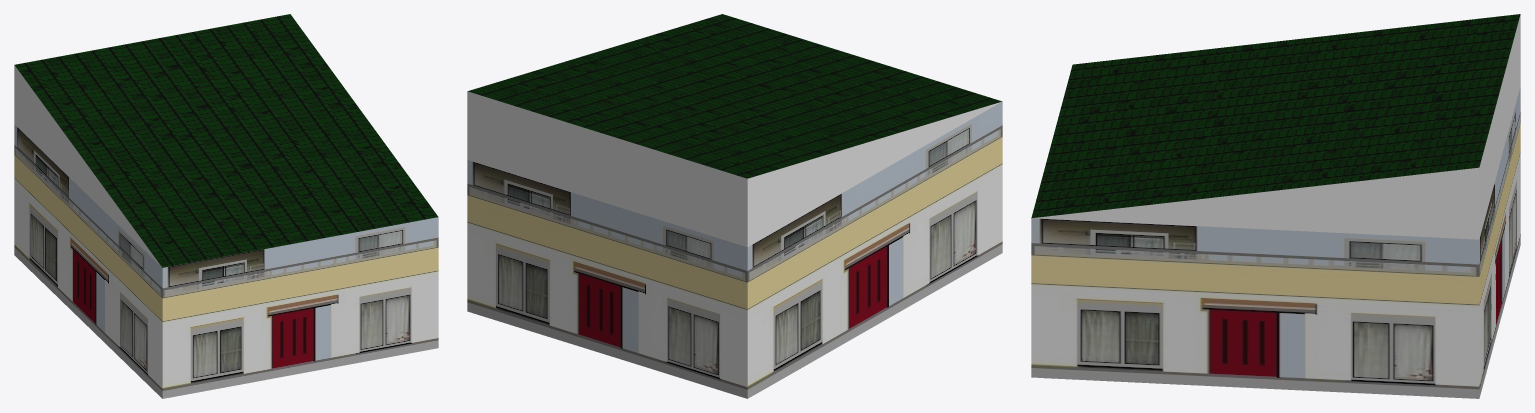
3 renders of one model, left to right at view 1: azimuth 30°, elevation 25°; view 2: azimuth 150°, elevation 25°; view 3: azimuth 270°, elevation 25°, orthographic. The views are drawn at different scales.
Parts seen in each view (by area): view 1: CityEngineMaterial_13_m, CityEngineMaterial_15_m, CityEngineMaterial_3_m; view 2: CityEngineMaterial_15_m, CityEngineMaterial_13_m, CityEngineMaterial_3_m; view 3: CityEngineMaterial_15_m, CityEngineMaterial_13_m, CityEngineMaterial_3_m.
Boxes of the visible parts, box(x1,y1,x2,y2) form: CityEngineMaterial_13_m: box(14, 14, 438, 267); CityEngineMaterial_15_m: box(14, 124, 438, 398); CityEngineMaterial_3_m: box(14, 65, 161, 266); CityEngineMaterial_15_m: box(467, 101, 1002, 398); CityEngineMaterial_13_m: box(468, 14, 1002, 178); CityEngineMaterial_3_m: box(467, 91, 1001, 247); CityEngineMaterial_15_m: box(1031, 87, 1520, 398); CityEngineMaterial_13_m: box(1031, 14, 1520, 218); CityEngineMaterial_3_m: box(1032, 14, 1520, 239).
Size of the model in its own units: 18.57 by 11.44 by 21.93.
